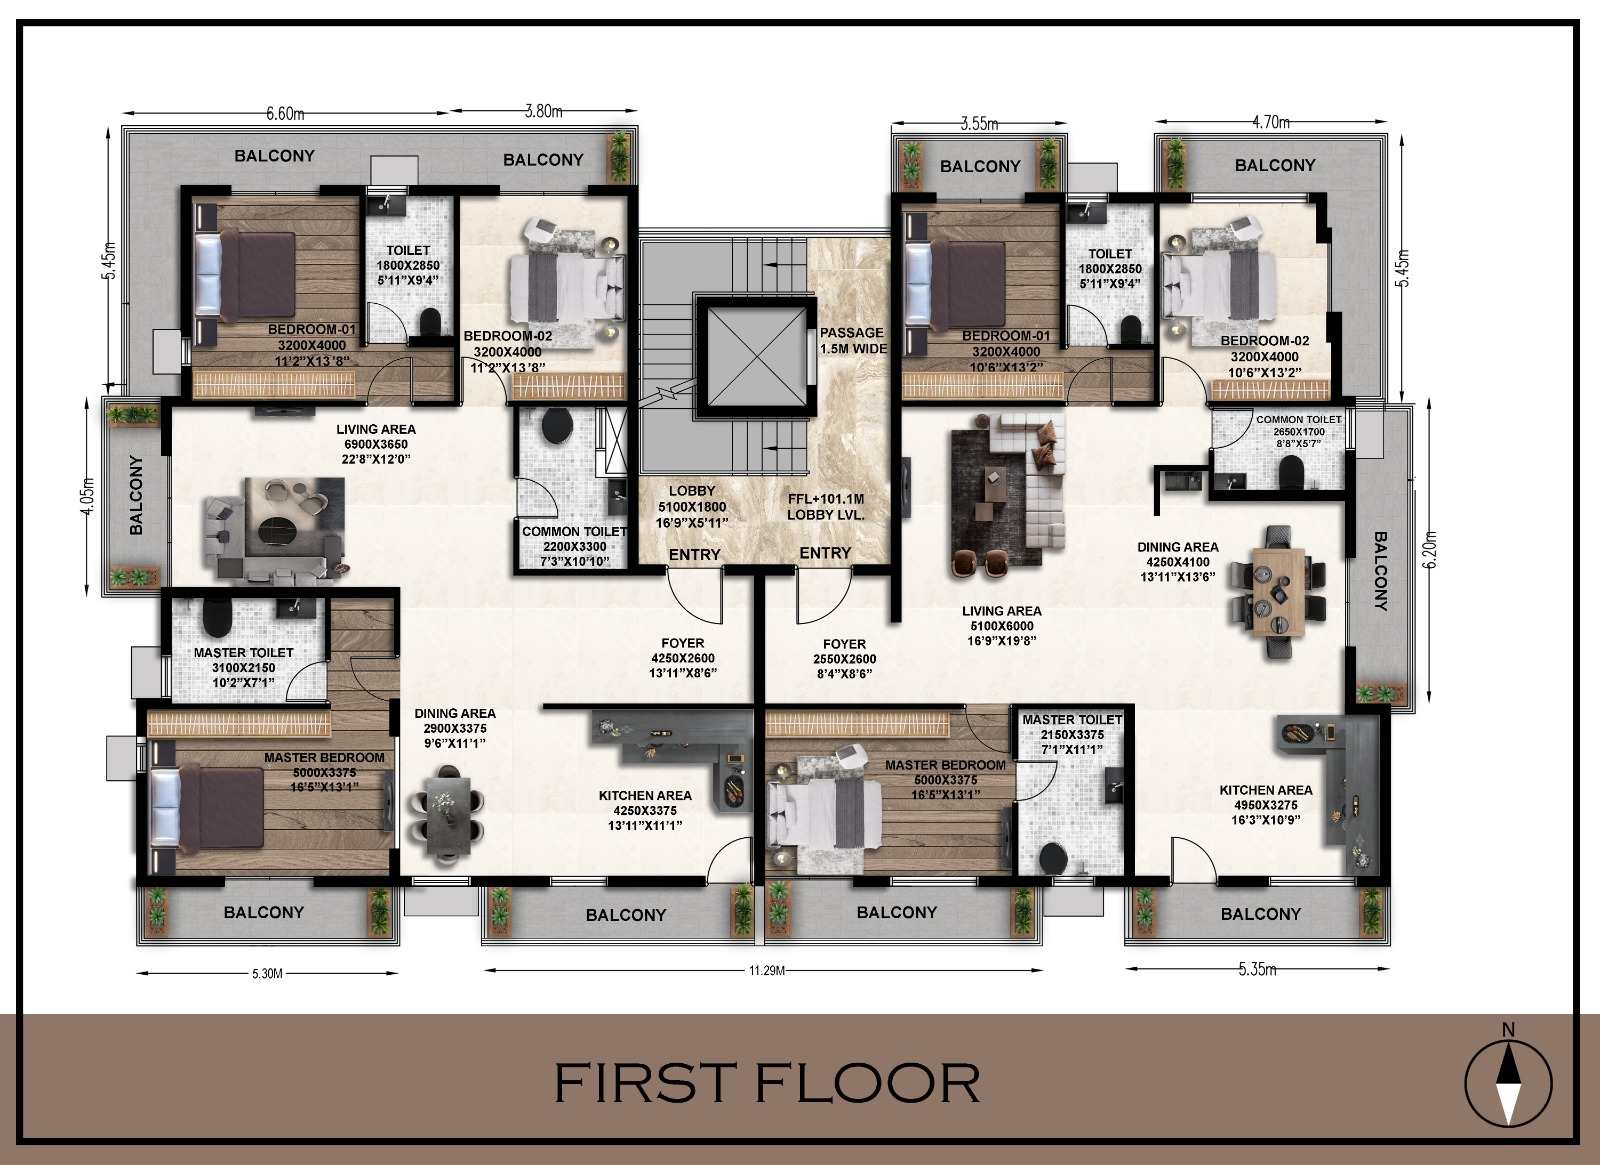door: (663, 568, 728, 628), (793, 568, 856, 628), (365, 355, 417, 406), (963, 704, 1015, 755), (1166, 832, 1219, 883), (1161, 351, 1210, 406), (460, 354, 509, 406), (348, 652, 398, 704), (1066, 356, 1116, 406), (706, 836, 754, 884), (514, 472, 561, 522), (365, 297, 412, 345), (1210, 404, 1255, 453), (1067, 303, 1112, 350), (283, 658, 328, 704), (1015, 758, 1057, 805)
